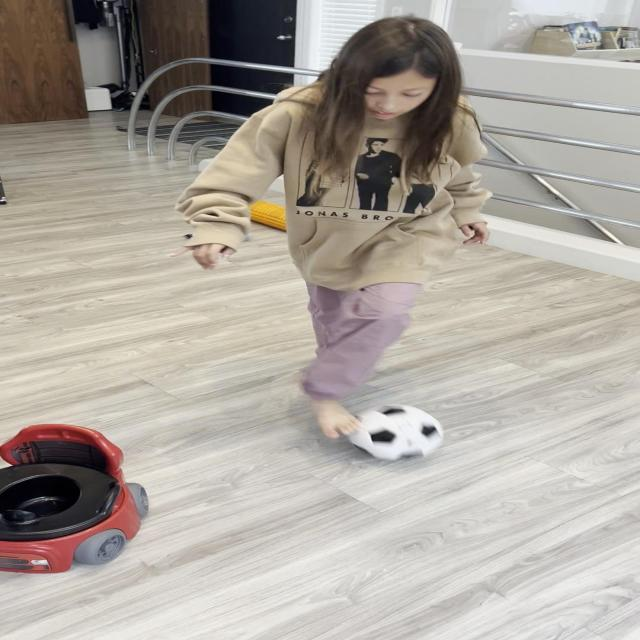ball: (346, 404, 445, 460)
